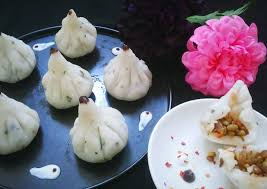modak: (41, 43, 104, 110), (75, 97, 138, 163), (107, 41, 159, 104), (1, 84, 45, 155), (50, 11, 104, 55), (1, 21, 36, 88)
